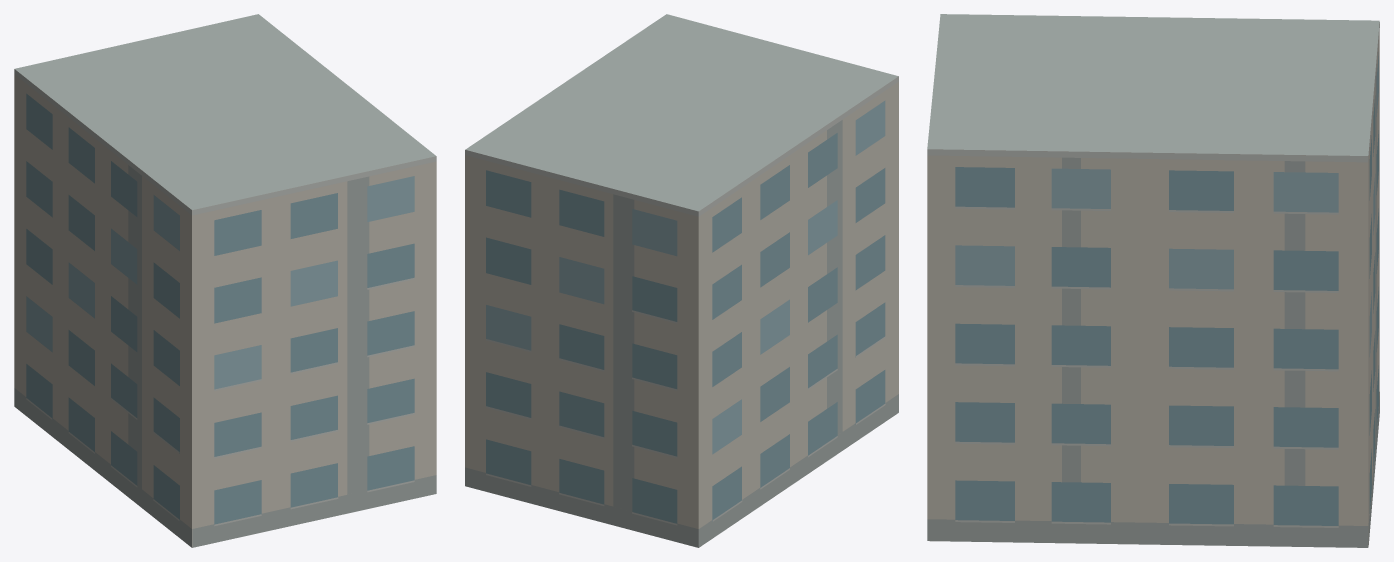
File: residential-64c62d28-9daf-4efc-84c4-a23ee1fc6ca0.glb
3 renders of one model, left to right at view 1: azimuth 30°, elevation 25°; view 2: azimuth 150°, elevation 25°; view 3: azimuth 270°, elevation 25°, orthographic. The views are drawn at different scales.
Visible parts, largest first — view 1: residential-64c62d28-9daf-4efc-84c4-a23ee1fc6ca0.tmp; view 2: residential-64c62d28-9daf-4efc-84c4-a23ee1fc6ca0.tmp; view 3: residential-64c62d28-9daf-4efc-84c4-a23ee1fc6ca0.tmp.
Boxes of the visible parts, box(x1,y1,x2,y2) form: residential-64c62d28-9daf-4efc-84c4-a23ee1fc6ca0.tmp: box(14, 14, 436, 547); residential-64c62d28-9daf-4efc-84c4-a23ee1fc6ca0.tmp: box(465, 14, 898, 547); residential-64c62d28-9daf-4efc-84c4-a23ee1fc6ca0.tmp: box(927, 14, 1379, 547).
Bounding box in the file's own units: 11.87 × 15.25 × 15.98.
